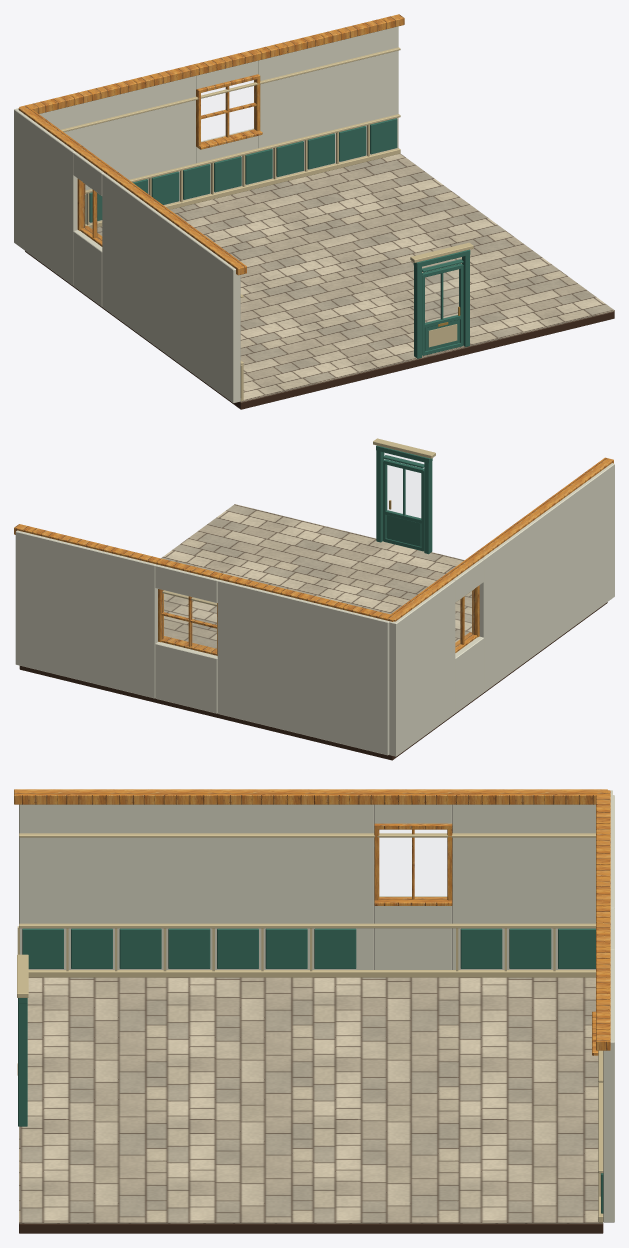
3 renders of one model, top to bottom at view 1: azimuth 30°, elevation 25°; view 2: azimuth 150°, elevation 25°; view 3: azimuth 270°, elevation 25°, orthographic. The views are drawn at different scales.
Parts seen in each view (by area): view 1: shop_pantry_floor, shop_pantry_wall, shop_oak, shop_pantry_wainscot, shop_pantry_trim, shop_wood_dark, door_leaf_pantry, shop_pantry_door; view 2: shop_pantry_wall, shop_pantry_floor, shop_oak, door_leaf_pantry, shop_wood_dark, shop_pantry_door, shop_pantry_trim; view 3: shop_pantry_floor, shop_pantry_wall, shop_pantry_wainscot, shop_oak, shop_pantry_trim, shop_wood_dark, shop_pantry_door.
Part boxes in pixels (box(x1,y1,x2,y2)): shop_pantry_floor: box(97, 153, 614, 402); shop_pantry_wall: box(14, 26, 398, 403); shop_oak: box(18, 14, 404, 275); shop_pantry_wainscot: box(85, 118, 397, 223); shop_pantry_trim: box(60, 47, 473, 401); shop_wood_dark: box(25, 251, 614, 409); door_leaf_pantry: box(422, 263, 463, 355); shop_pantry_door: box(413, 249, 470, 358); shop_pantry_wall: box(15, 463, 614, 756); shop_pantry_floor: box(161, 504, 471, 648); shop_oak: box(14, 457, 613, 655); door_leaf_pantry: box(383, 459, 424, 551); shop_wood_dark: box(19, 602, 607, 760); shop_pantry_door: box(376, 445, 432, 554); shop_pantry_trim: box(162, 438, 474, 606); shop_pantry_floor: box(19, 977, 603, 1223); shop_pantry_wall: box(19, 790, 614, 1222); shop_pantry_wainscot: box(22, 928, 603, 1213); shop_oak: box(14, 789, 610, 1055); shop_pantry_trim: box(17, 833, 603, 1222); shop_wood_dark: box(19, 1224, 603, 1233); shop_pantry_door: box(18, 998, 27, 1126).
Size of the model in its own units: 12.34 by 4.41 by 12.34.
Materials: 9 (2 with a texture image).
